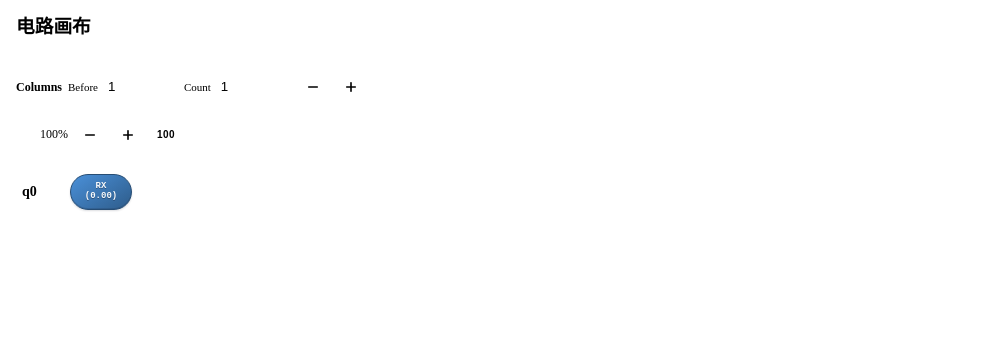
Scenario: CircuitCanvas › keeps inline editor and side panel parameter values in sync
Click the element with test id "canvas-cell-0-0": (101, 192) [70,174,132,210]
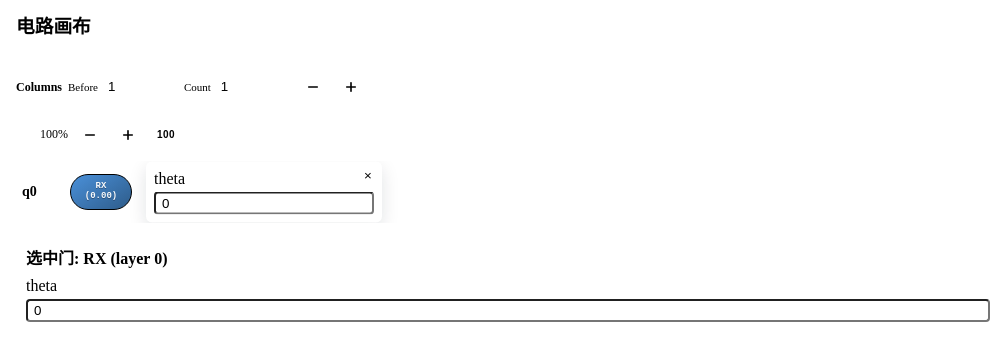
Replace the text in the number field named "param-theta" with "1.2": (264, 203) [154,191,374,214]
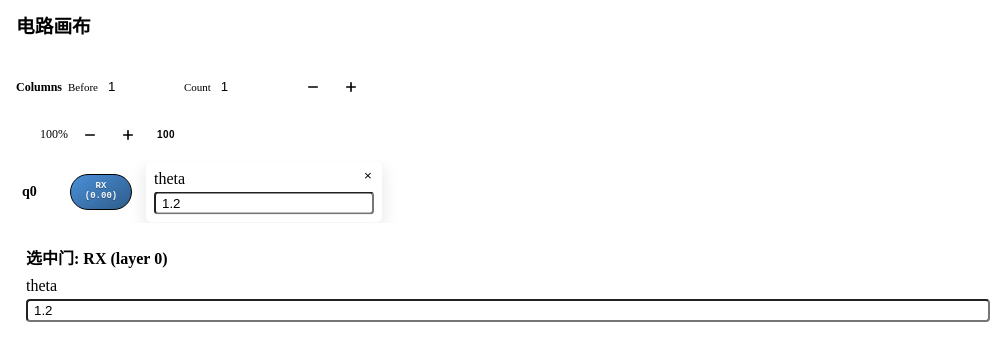
Check: the number field named "param-theta" holds "1.2", box [26,299,990,322]
